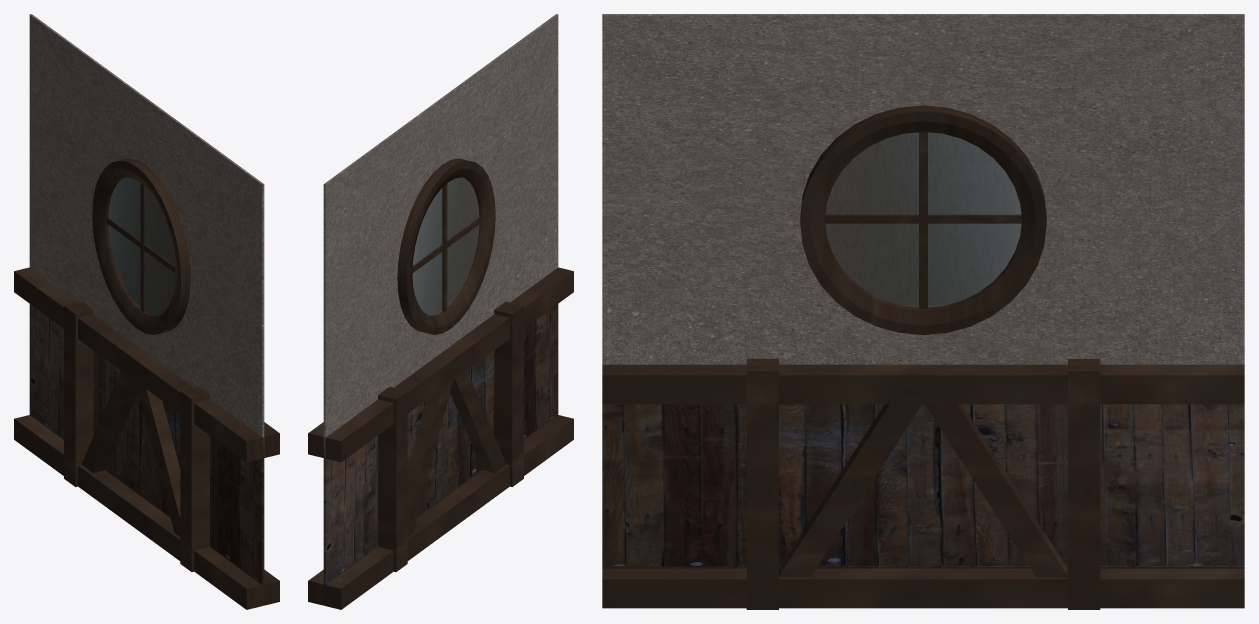
File: OutdoorArchitecture_BasicWall03_Window02_NoEdges_BShortt.fbx
3 views of the same model, side by side, from view 1: azimuth 30°, elevation 25°; view 2: azimuth 150°, elevation 25°; view 3: azimuth 270°, elevation 25° (orthographic). The views are drawn at different scales.
Visible parts, largest first — view 1: OutdoorArchitecture_BasicWall03_Window02_NoEdges_BShortt; view 2: OutdoorArchitecture_BasicWall03_Window02_NoEdges_BShortt; view 3: OutdoorArchitecture_BasicWall03_Window02_NoEdges_BShortt.
Boxes of the visible parts, x1=… form: OutdoorArchitecture_BasicWall03_Window02_NoEdges_BShortt: x1=14, y1=14, x2=279, y2=609; OutdoorArchitecture_BasicWall03_Window02_NoEdges_BShortt: x1=308, y1=14, x2=573, y2=609; OutdoorArchitecture_BasicWall03_Window02_NoEdges_BShortt: x1=602, y1=14, x2=1244, y2=609.
Size of the model in its own units: 28.5 by 300 by 300.
